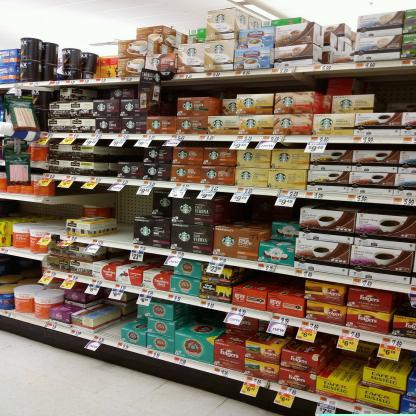Void: (239, 268, 304, 291), (6, 202, 68, 224), (376, 75, 415, 109), (106, 193, 130, 242), (224, 204, 289, 222), (182, 307, 221, 333), (328, 353, 359, 382), (0, 256, 33, 279), (97, 326, 124, 338), (162, 88, 174, 113)
